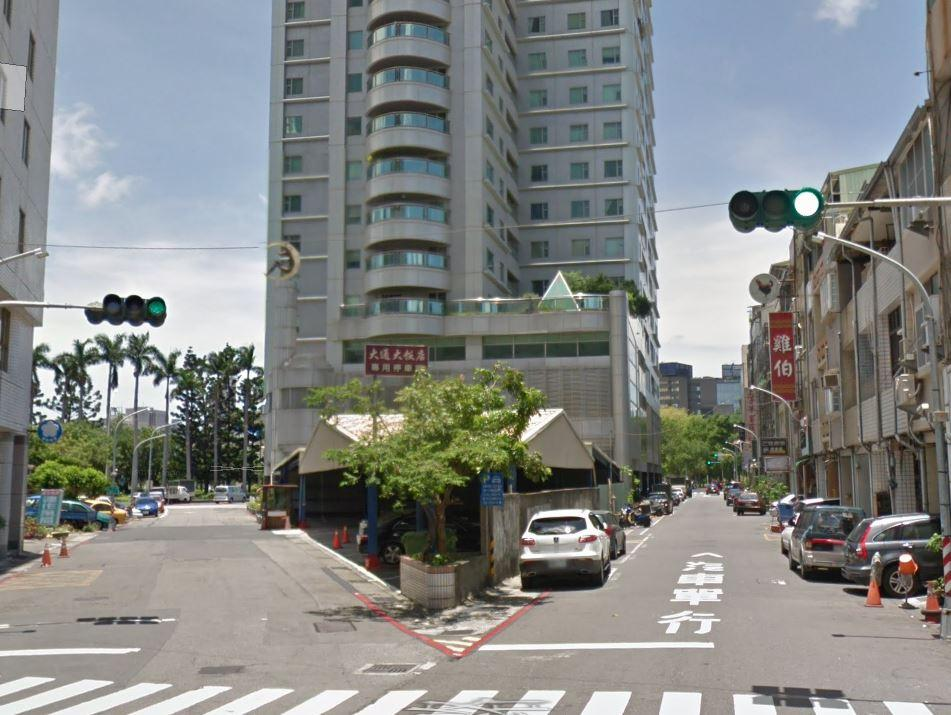green_traffic_light: (727, 186, 822, 234), (101, 290, 166, 329)
